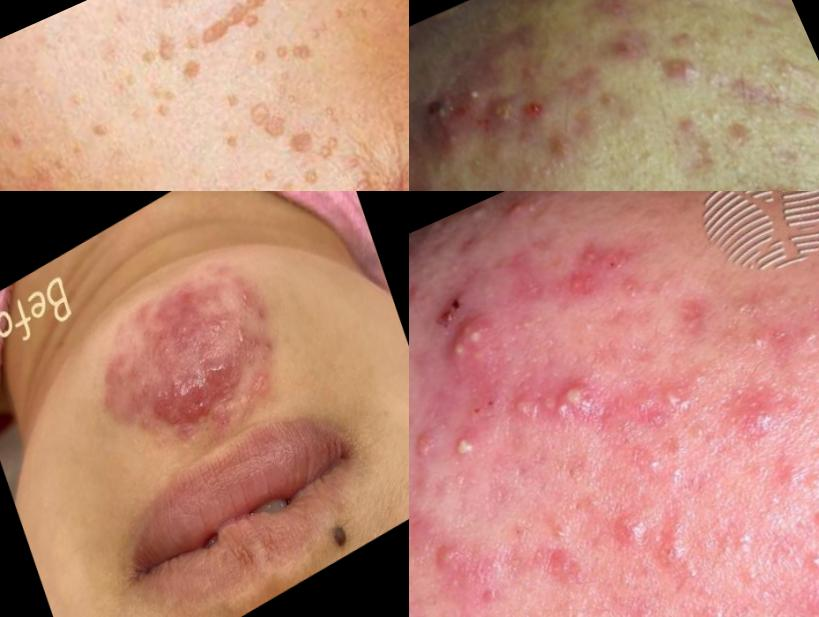cystic: (410, 132, 432, 192)
flat_wart: (183, 1, 348, 54), (233, 85, 303, 155), (282, 112, 357, 175), (120, 17, 192, 79), (138, 77, 195, 131), (259, 150, 327, 192), (328, 153, 396, 192), (172, 46, 226, 91), (267, 29, 318, 73), (242, 39, 280, 71)
papular: (426, 524, 543, 617), (508, 514, 613, 617), (159, 334, 257, 432), (90, 346, 163, 437), (617, 368, 706, 437), (144, 280, 211, 360), (470, 192, 564, 247), (724, 373, 790, 451), (410, 525, 478, 583), (215, 262, 268, 330), (410, 415, 455, 480), (599, 21, 654, 74), (538, 125, 592, 178), (196, 401, 240, 446), (242, 318, 276, 366), (248, 371, 283, 416), (592, 1, 642, 30), (702, 1, 741, 10)
purulent: (575, 480, 664, 560), (433, 417, 494, 476)
sebo-crystan-conglo: (488, 345, 623, 462), (528, 223, 646, 314), (418, 300, 534, 390), (413, 70, 497, 131), (656, 46, 703, 95), (479, 91, 528, 136), (753, 180, 797, 192)
whitehead: (709, 518, 771, 576), (774, 311, 819, 370), (730, 318, 776, 365), (692, 589, 759, 617), (675, 411, 717, 455), (687, 96, 728, 130), (627, 146, 664, 180), (632, 446, 666, 482), (798, 495, 819, 541)
